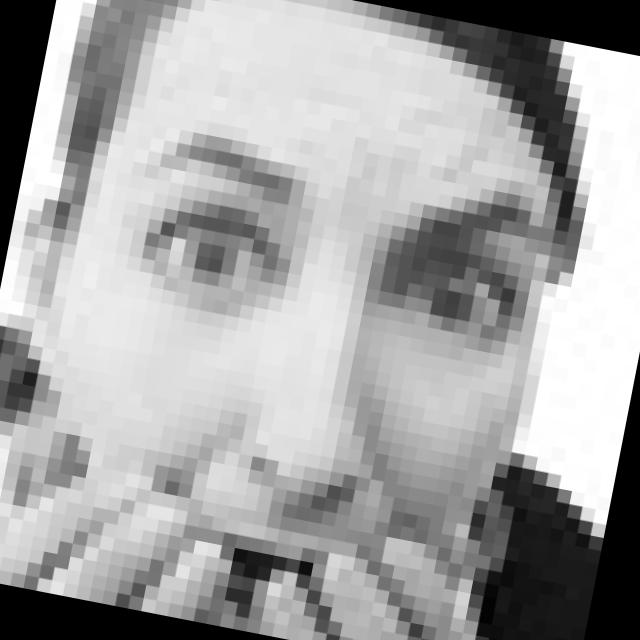fear: (64, 126, 558, 640)
